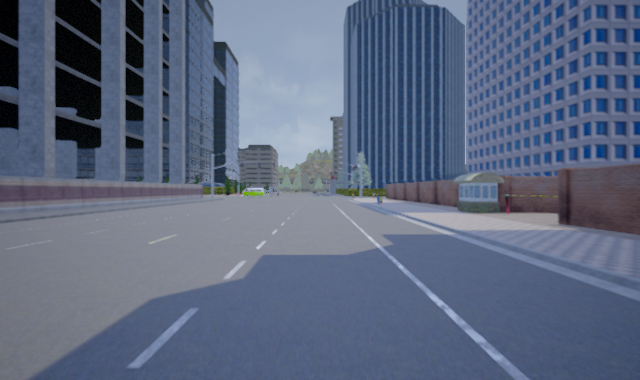vehicle: (242, 187, 265, 197)
